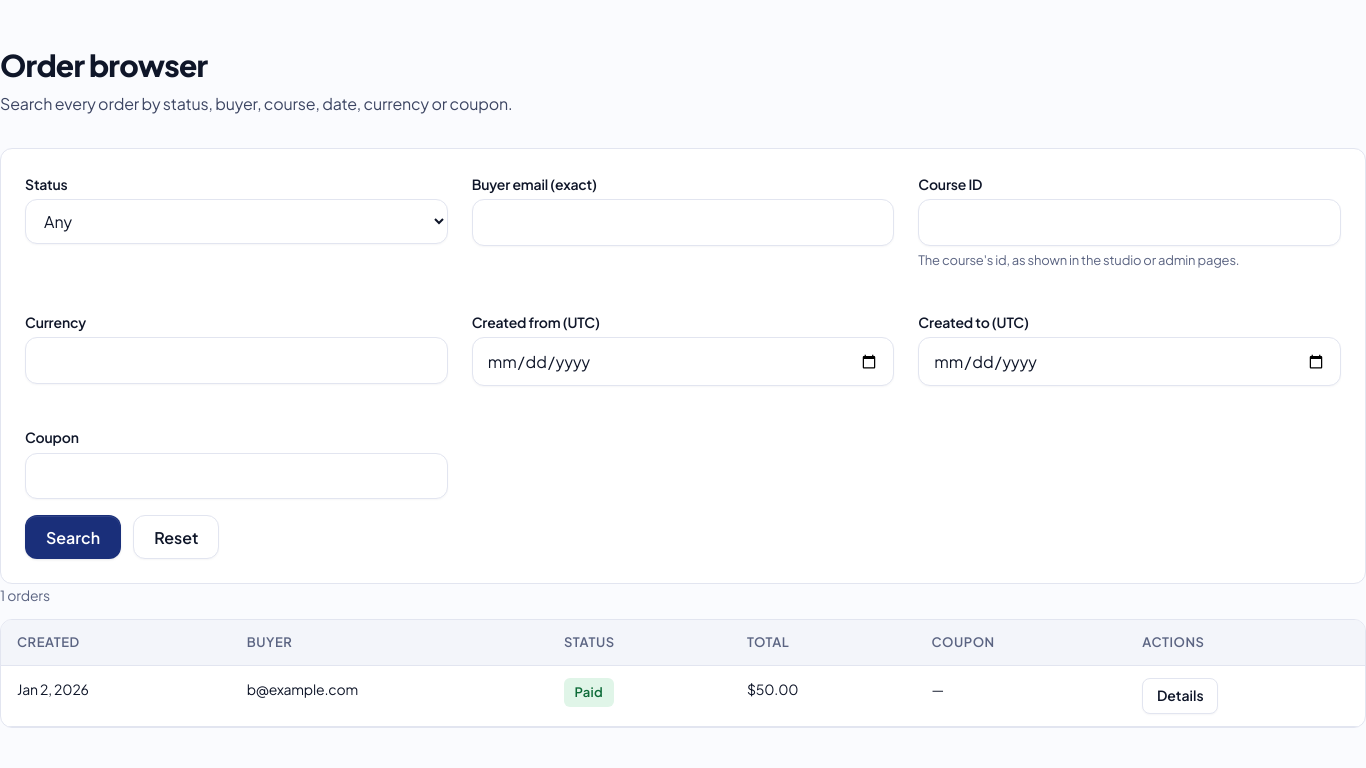
order browser filters › requests /api/admin/orders with the submitted filters and opens the detail drawer
Expected: the text "b@example.com" is shown, [231, 665, 548, 726]
Step 1. Select "Paid" in the dropdown labelled "Status" → (236, 222), box [25, 200, 448, 244]
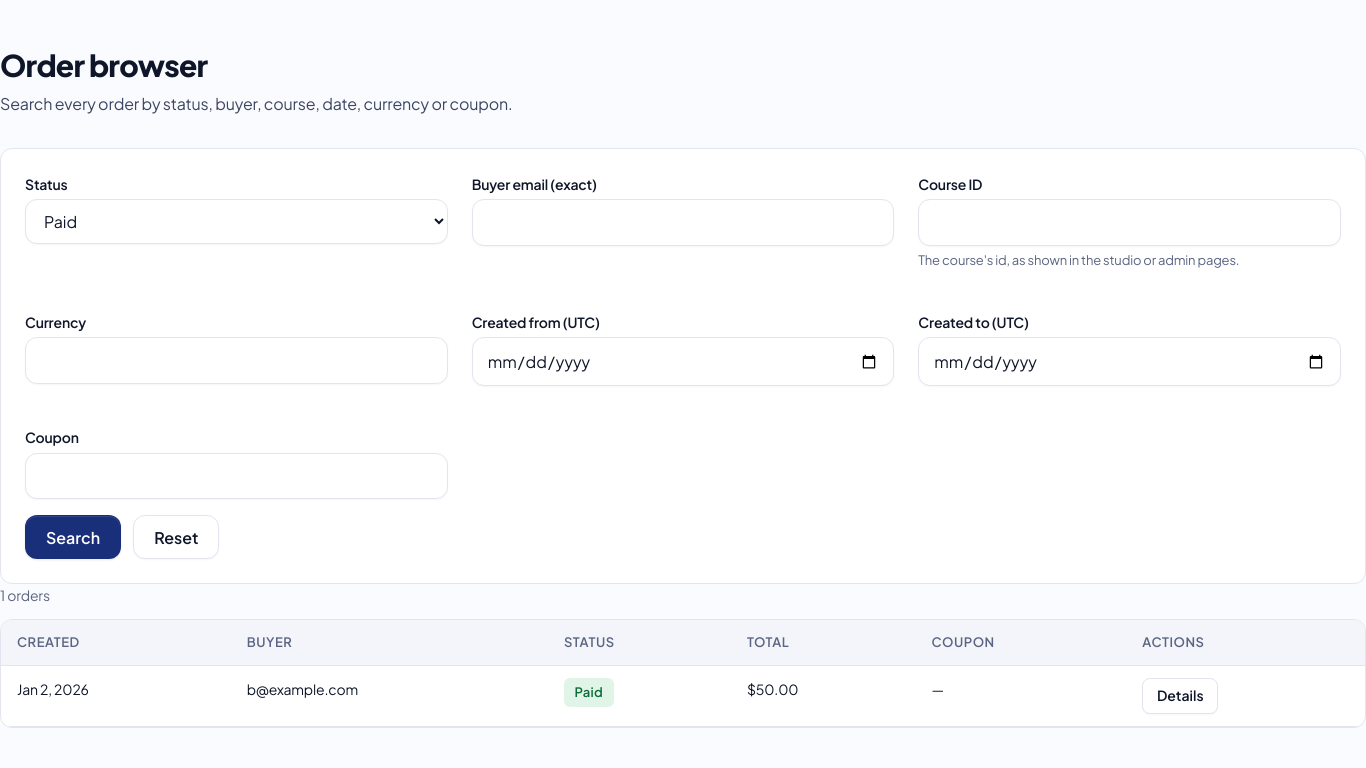
Step 2. Type "b@example.com" into the field labelled "Buyer email (exact)" → (683, 223), box [472, 200, 894, 246]
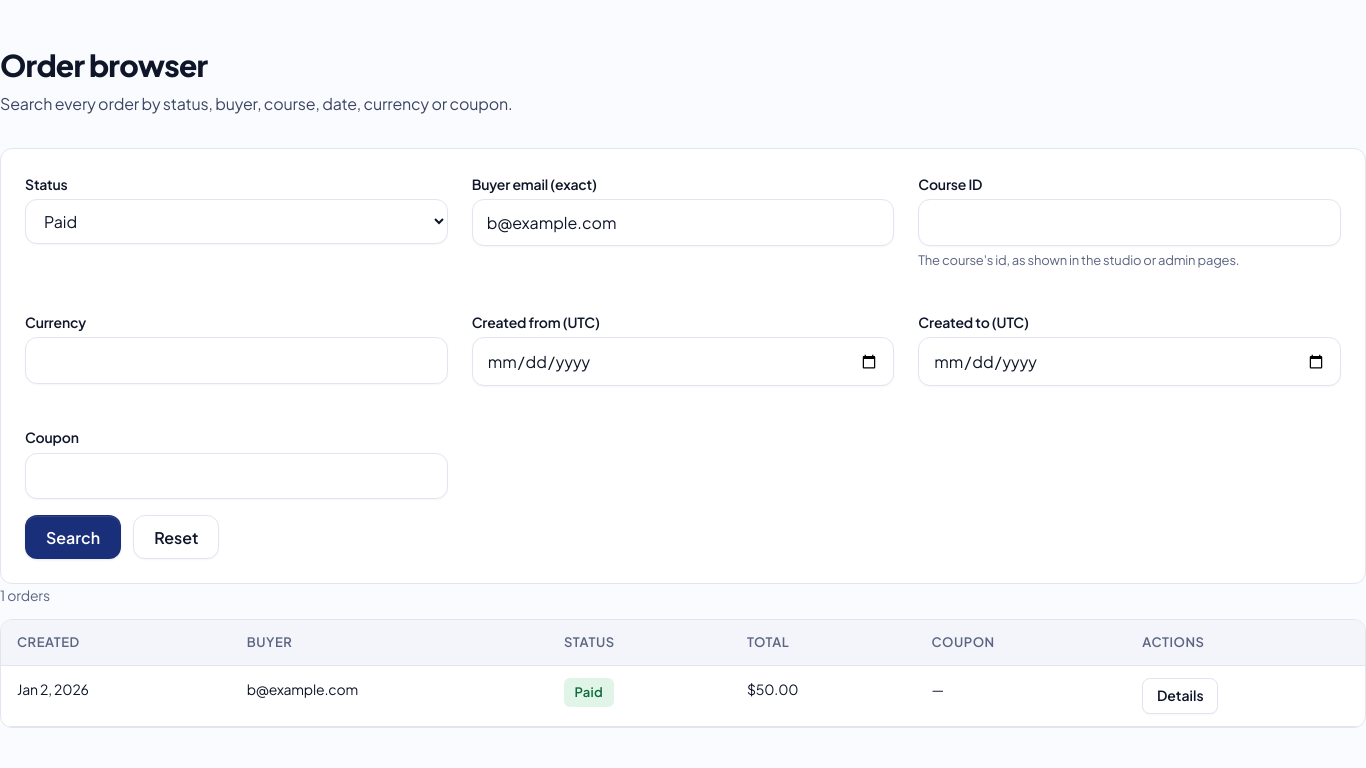
Step 3. Click the button "Search" → (73, 537), box [25, 515, 121, 559]
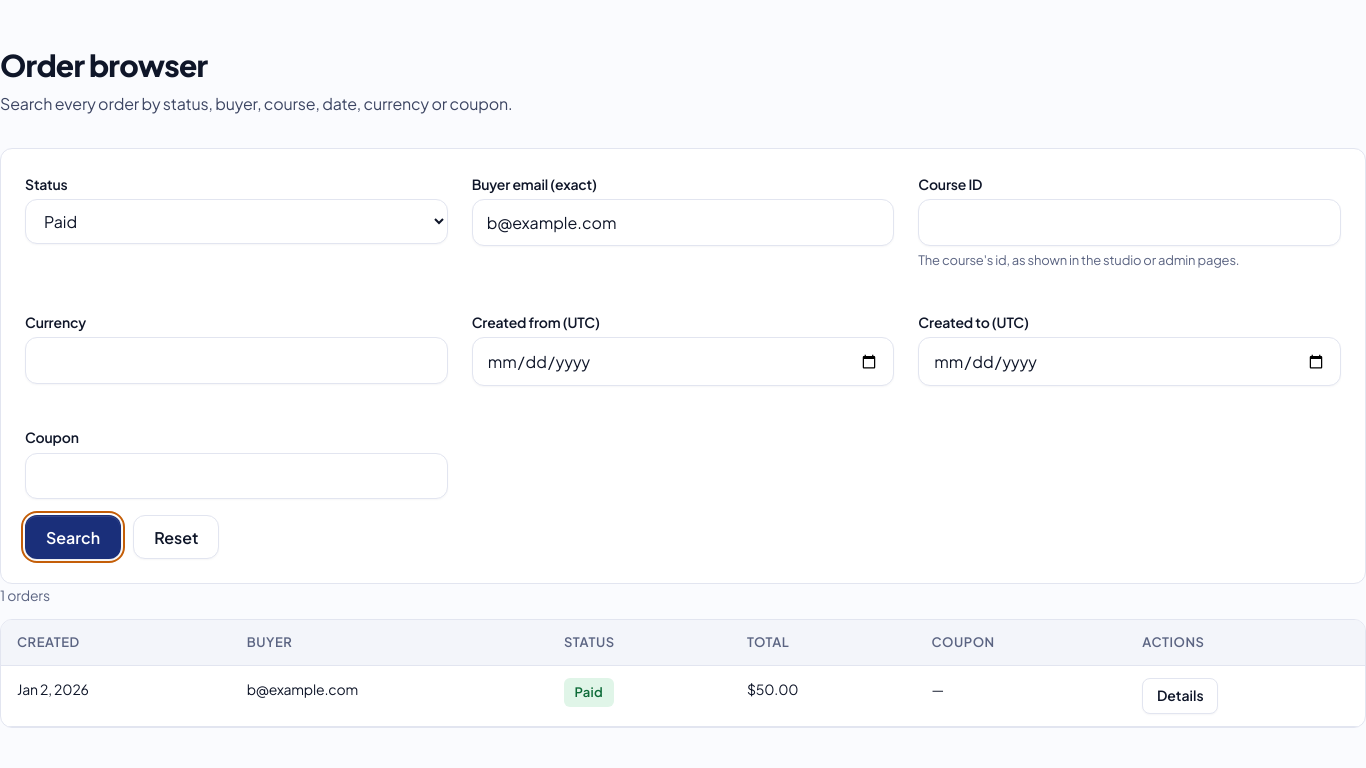
Step 4. Click the button "Details" → (1180, 696), box [1142, 678, 1218, 714]
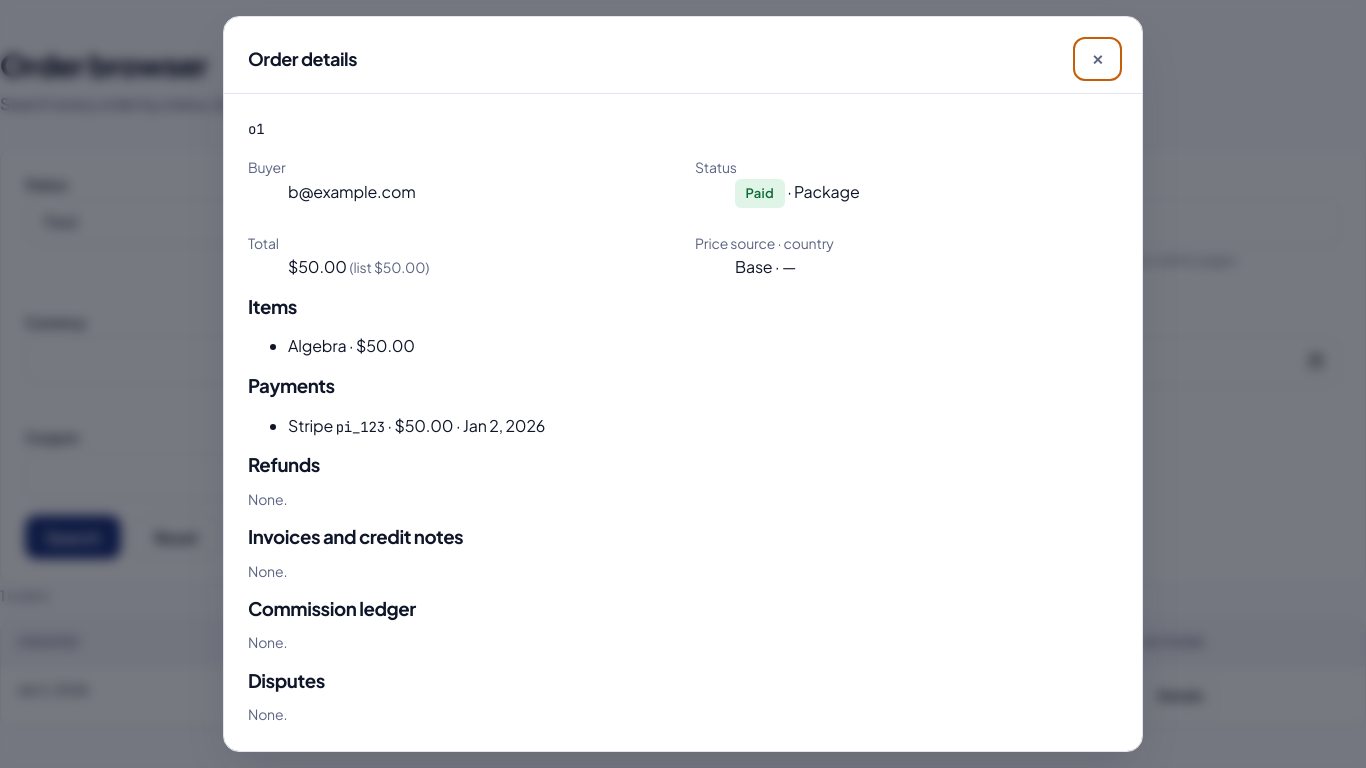
Expected: the text "pi_123" is shown, [336, 418, 385, 436]
Expected: the list item "Algebra · $50.00" is shown, [288, 336, 415, 356]
